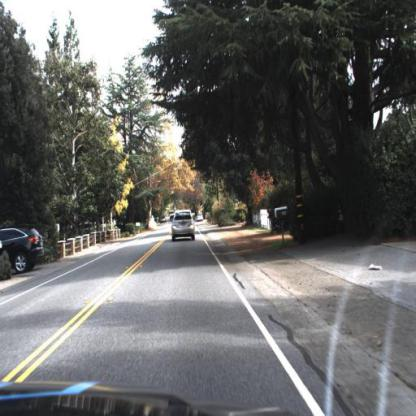car: (0, 224, 45, 276), (170, 205, 196, 242), (192, 210, 207, 226)
